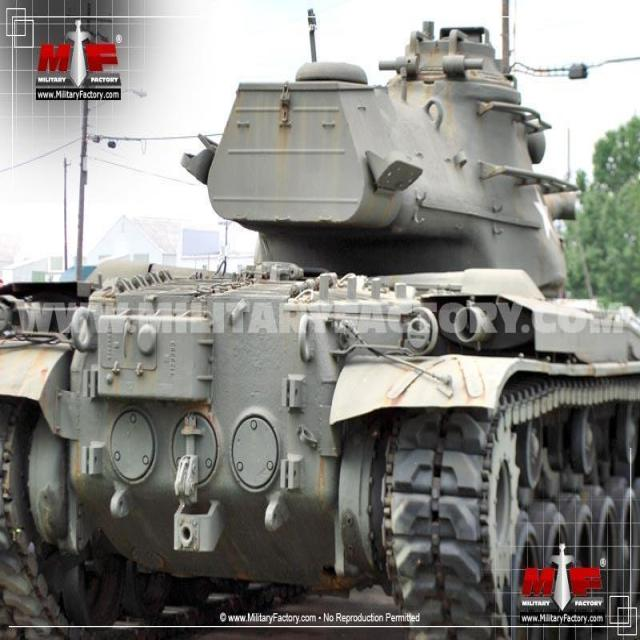Tanks: (78, 21, 551, 609)
